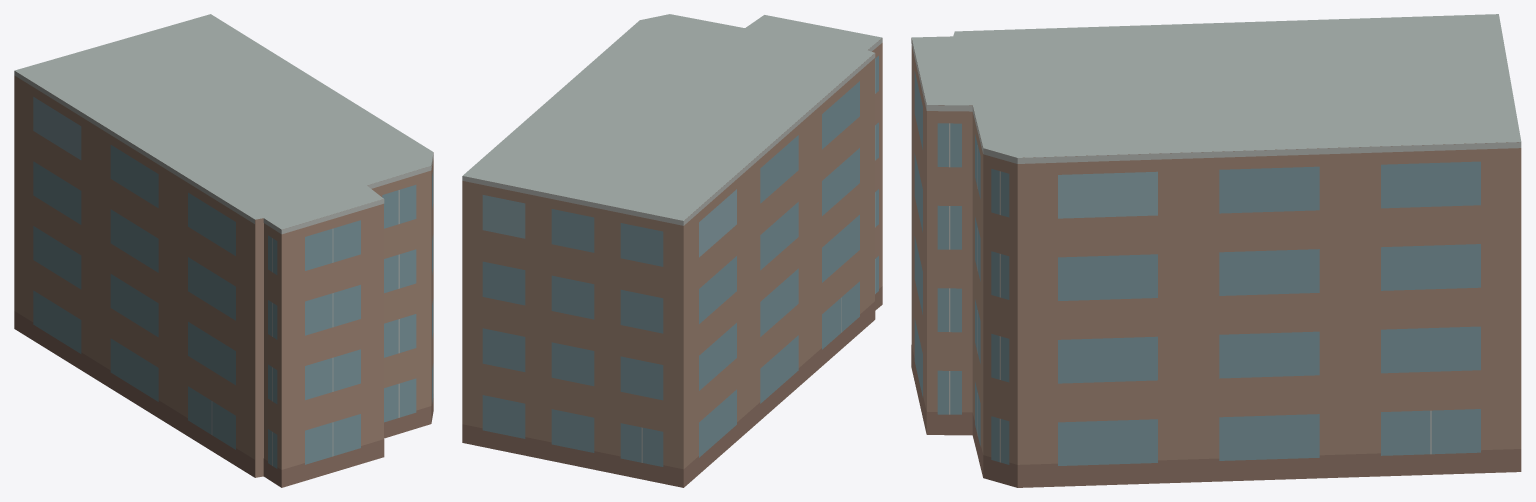
File: survey-upis-32871256.glb
3 renders of one model, left to right at view 1: azimuth 30°, elevation 25°; view 2: azimuth 150°, elevation 25°; view 3: azimuth 270°, elevation 25°, orthographic. The views are drawn at different scales.
Visible parts, largest first — view 1: survey-upis-32871256.tmp; view 2: survey-upis-32871256.tmp; view 3: survey-upis-32871256.tmp.
Boxes of the visible parts, left/top/right/bottom form: survey-upis-32871256.tmp: left=14, top=14, right=433, bottom=487; survey-upis-32871256.tmp: left=462, top=14, right=882, bottom=487; survey-upis-32871256.tmp: left=911, top=14, right=1521, bottom=487.
Size of the model in its own units: 12.36 by 13.2 by 22.12.
